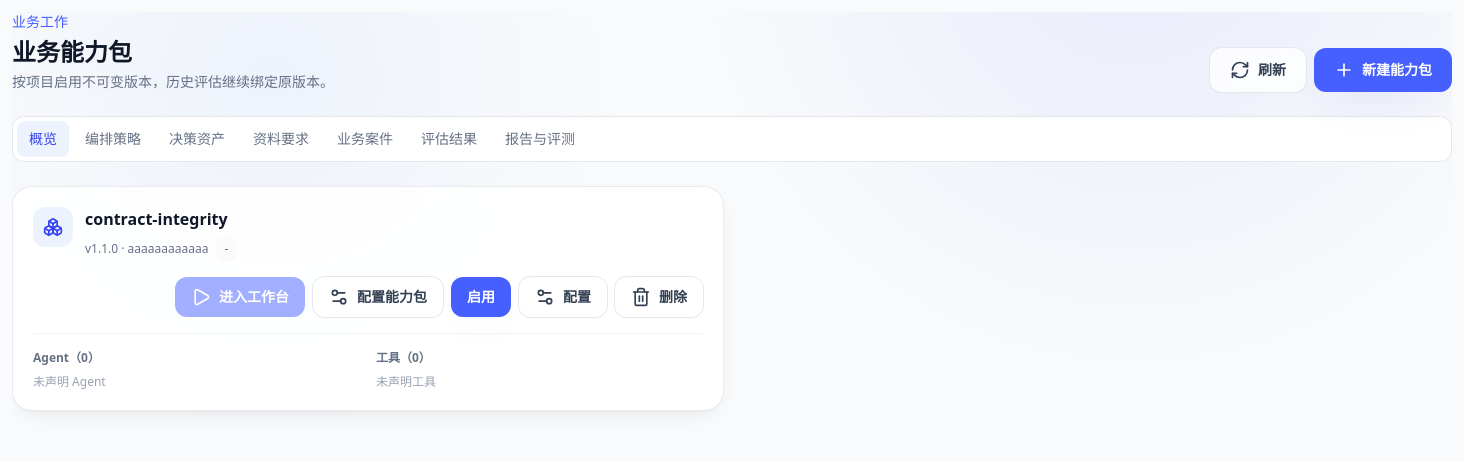
Test: capability packs page › shows delete errors from the API
The width and height of the screenshot is (1464, 462).
Step 1. Click the button with aria-label "删除 contract-integrity v1.1.0" → (659, 297), box x1=615 y1=277 x2=703 y2=317
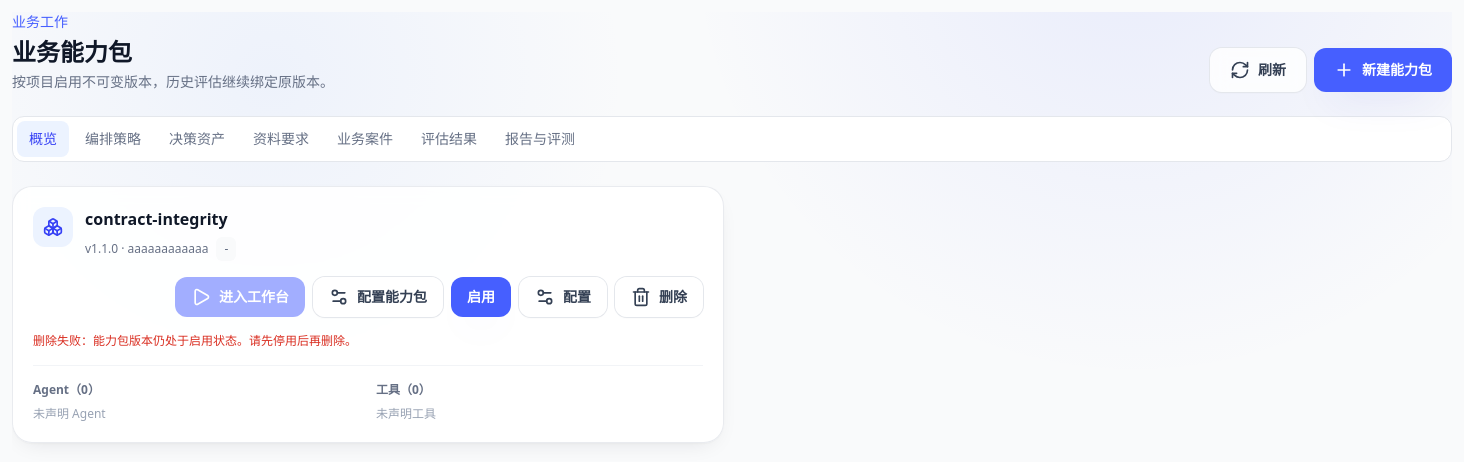
Result: the message reads "删除失败：能力包版本仍处于启用状态。请先停用后再删除。" at x1=33 y1=332 x2=357 y2=349
